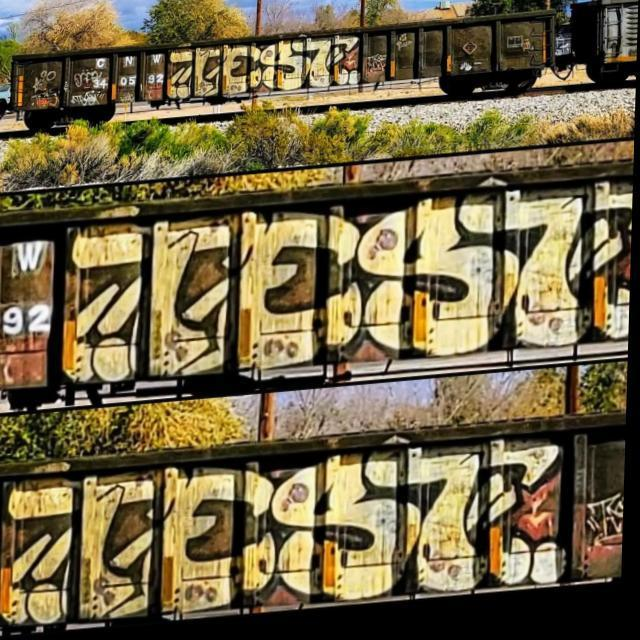-: (57, 178, 635, 394), (0, 426, 580, 634), (164, 38, 368, 110), (0, 220, 59, 352), (95, 56, 164, 96)
